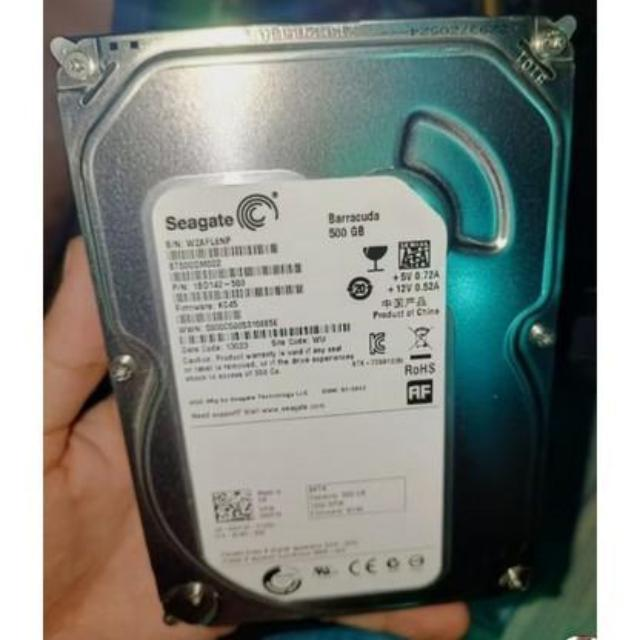DISK: (36, 5, 584, 640)
